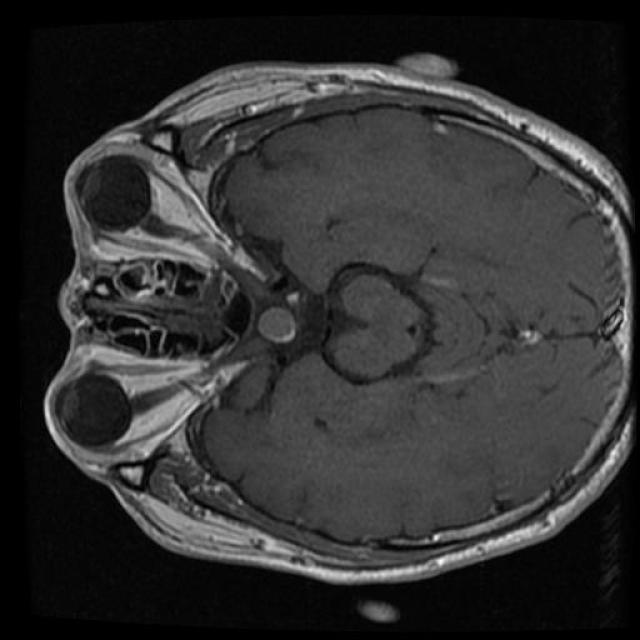Pituitary: (257, 293, 298, 344)
